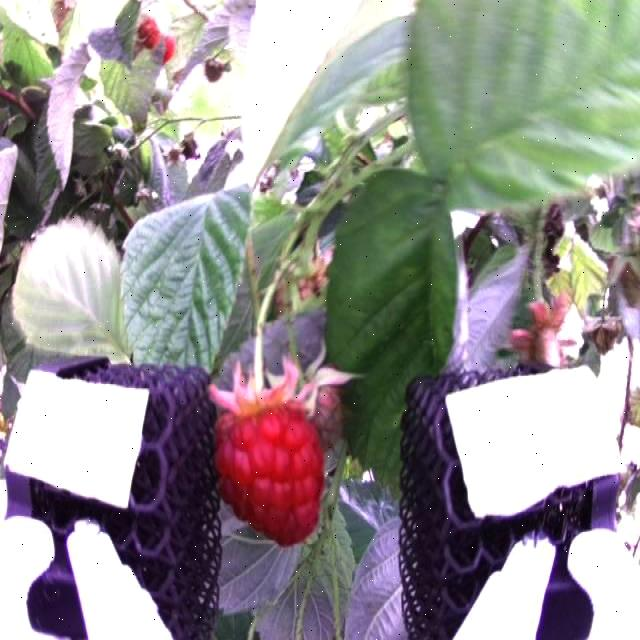Riped berries: (210, 383, 329, 548)
